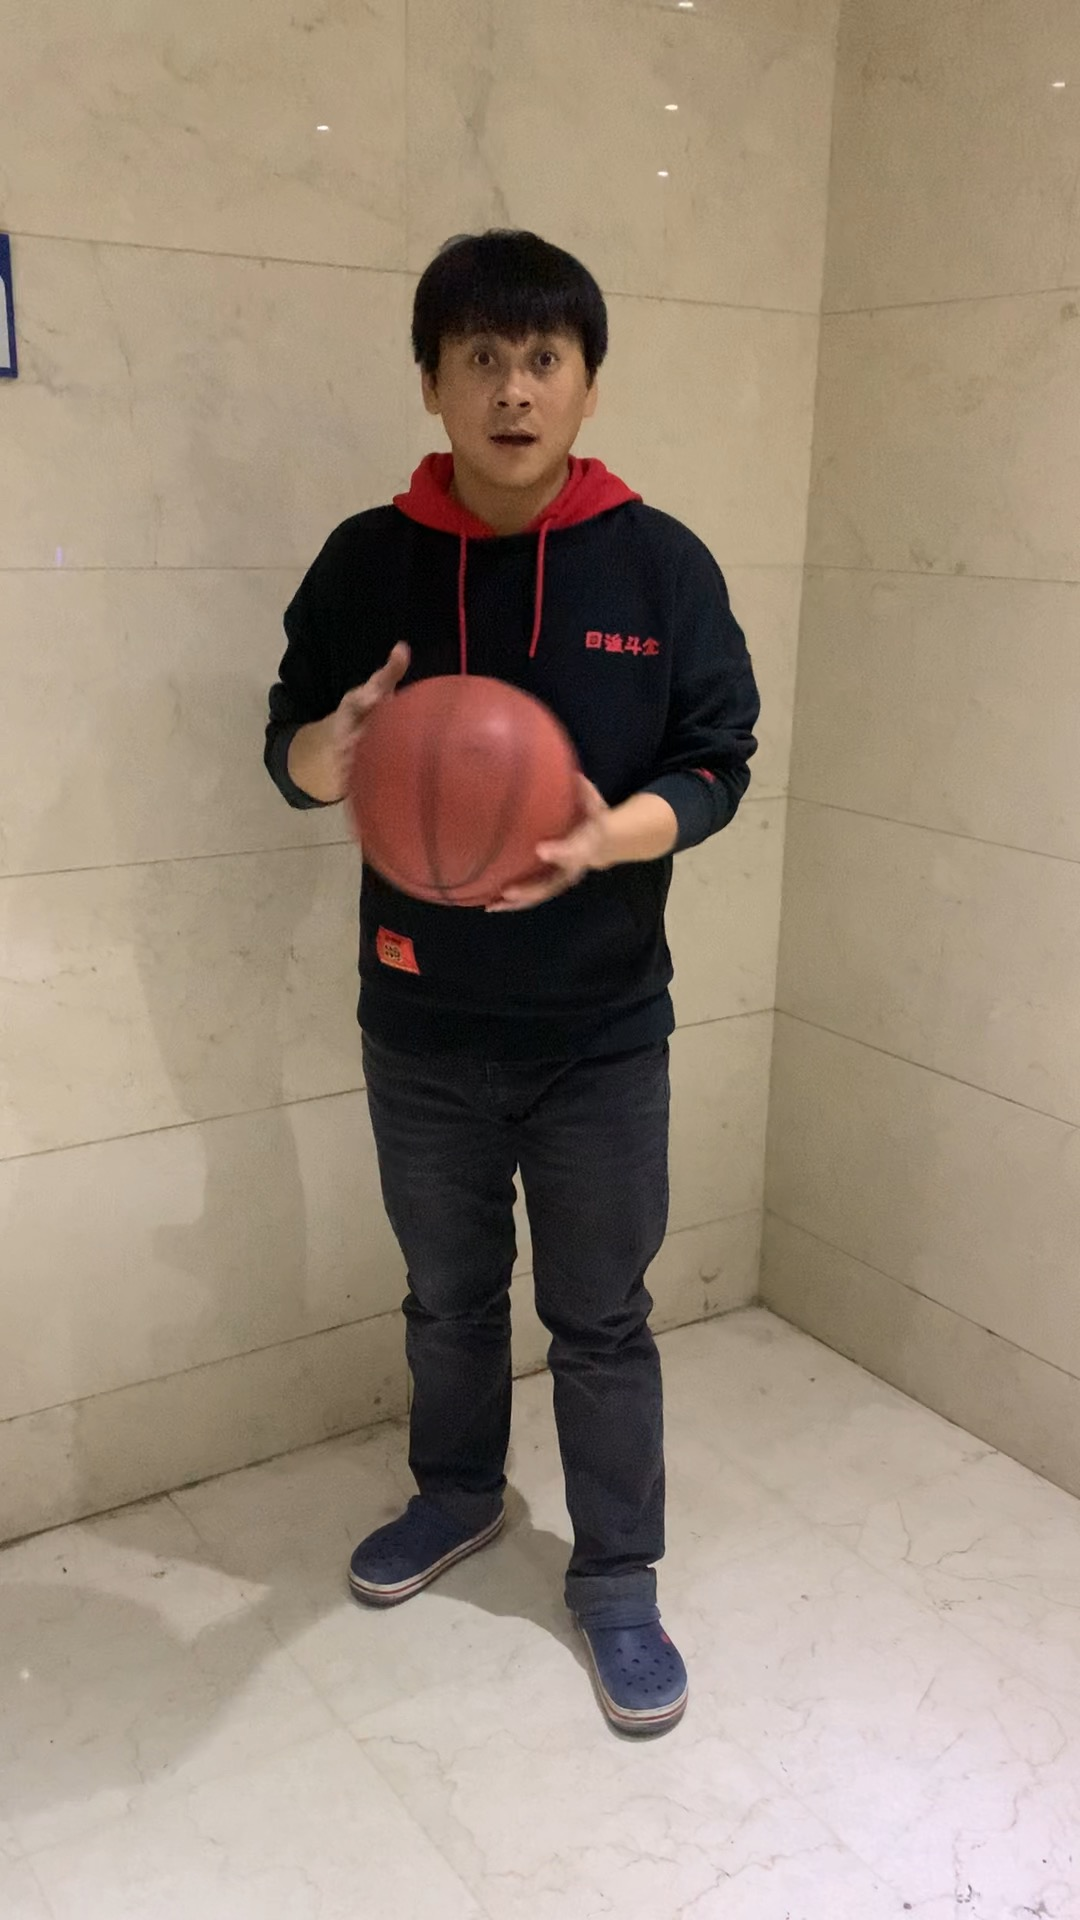ball: (344, 673, 584, 907)
